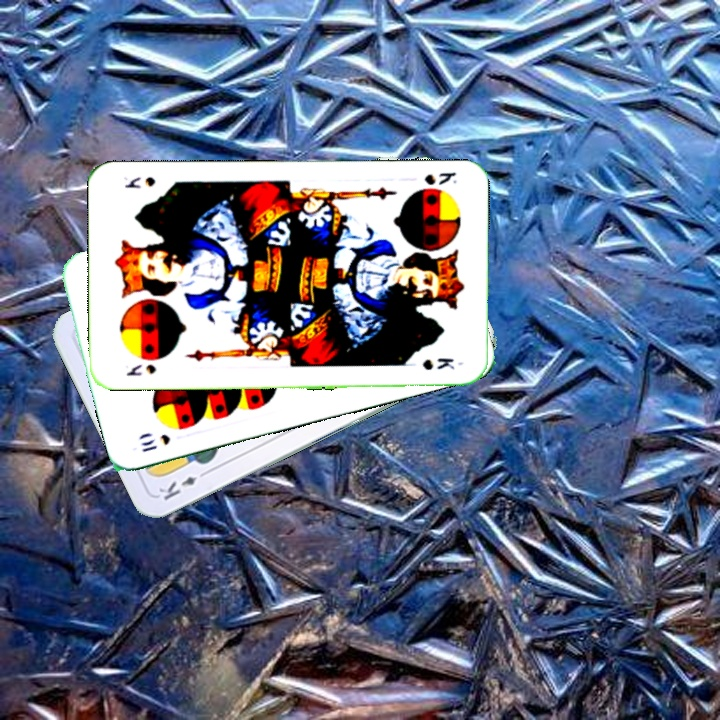EK: (154, 466, 212, 503)
S10: (137, 430, 173, 455)
SK: (421, 168, 459, 187), (123, 360, 159, 378)
